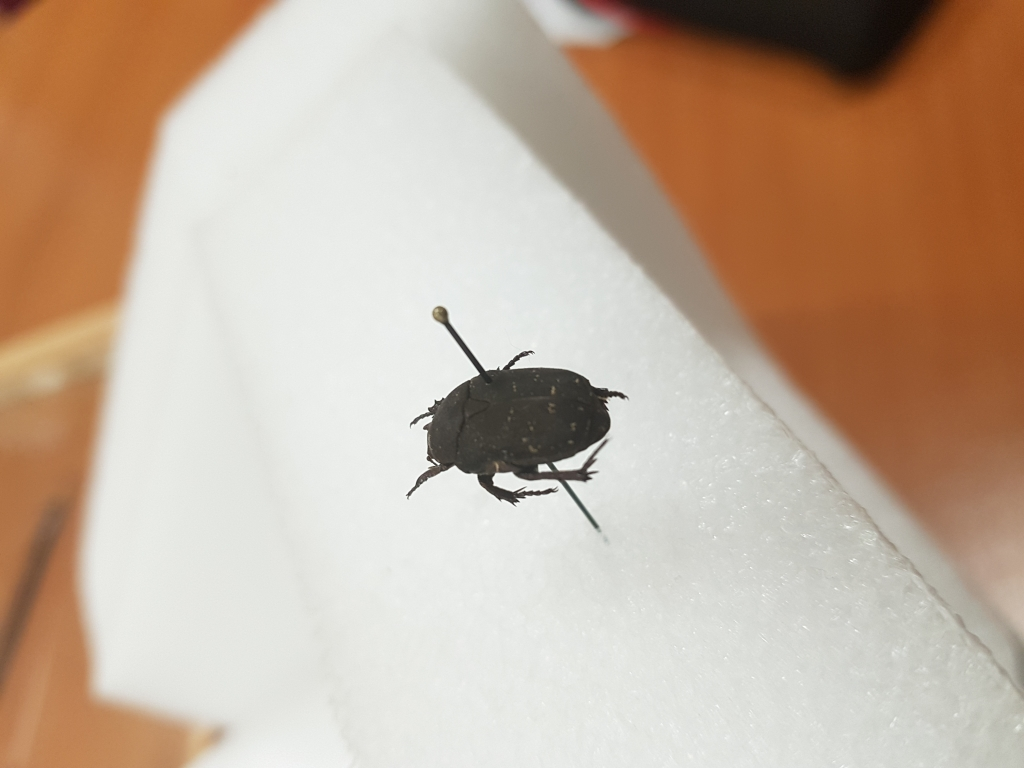Protaetia_morio_morio: (399, 344, 629, 503)
